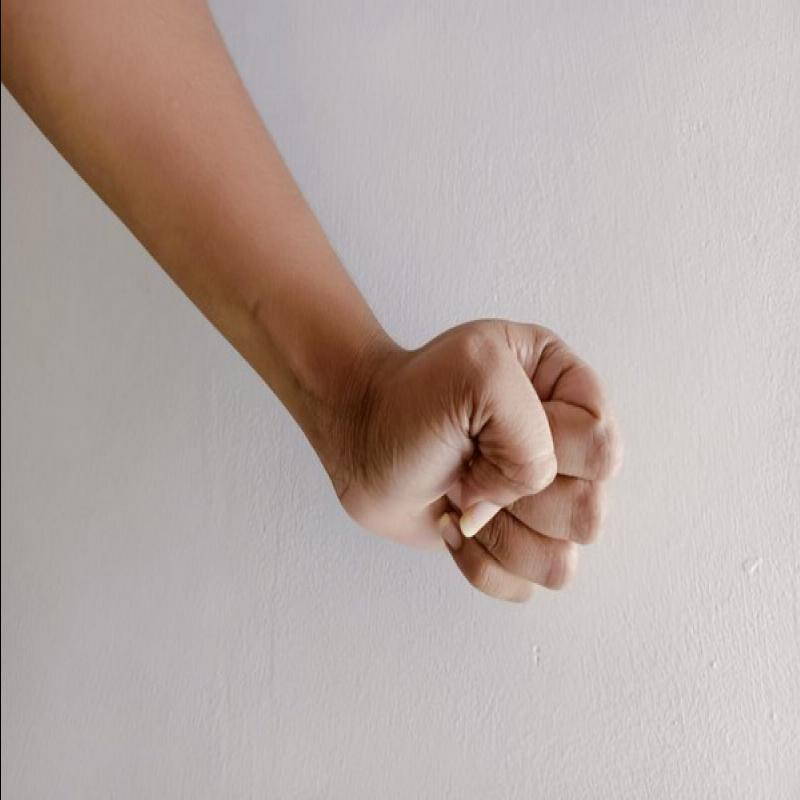Mushti: (327, 307, 632, 623)
